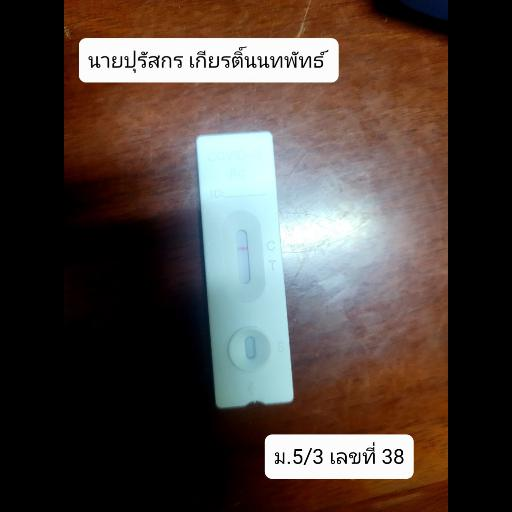Neg: (196, 131, 296, 410)
